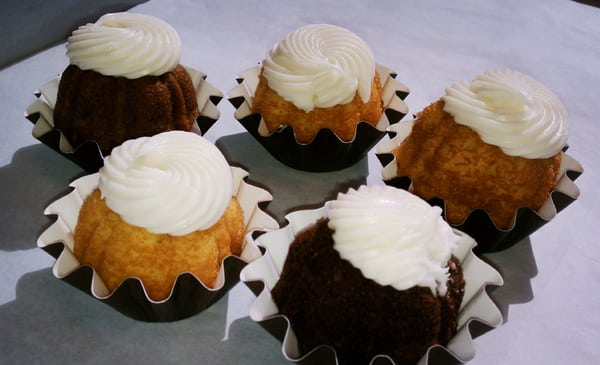sushi: (271, 183, 471, 361), (392, 67, 577, 236), (72, 131, 246, 302), (53, 12, 202, 154), (250, 22, 396, 149)
